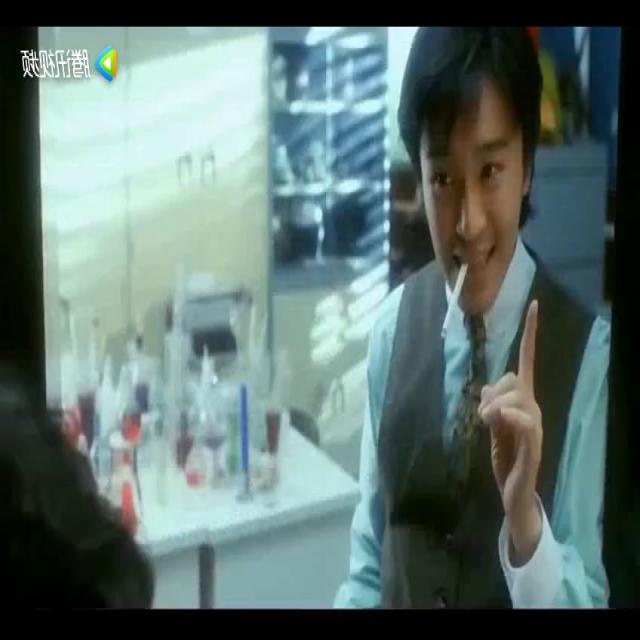smoking: (437, 261, 470, 342)
